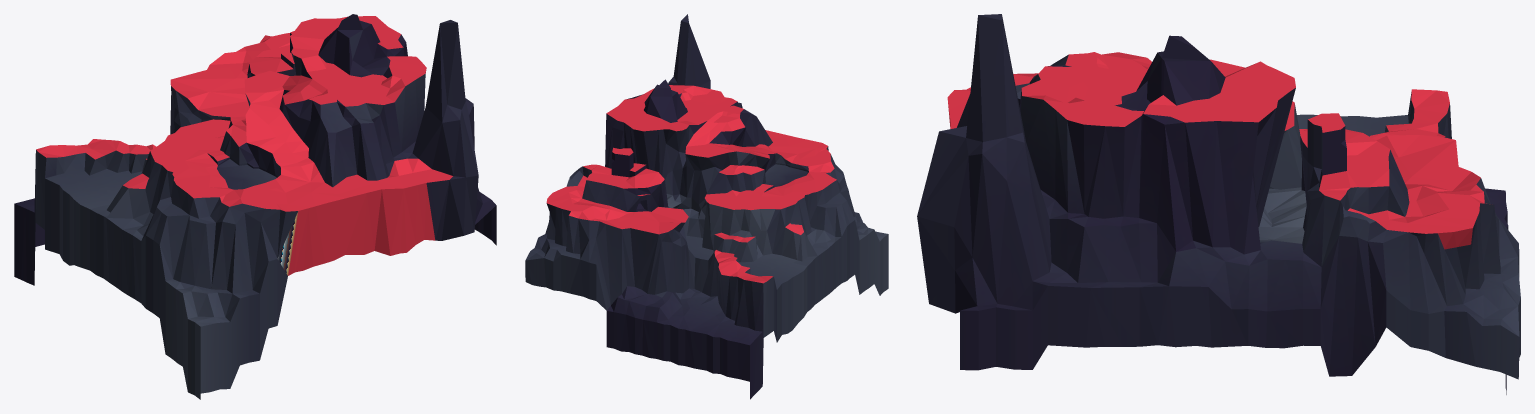
File: Terrain_Cliff 1.fbx
3 renders of one model, left to right at view 1: azimuth 30°, elevation 25°; view 2: azimuth 150°, elevation 25°; view 3: azimuth 270°, elevation 25°, orthographic. The views are drawn at different scales.
Parts seen in each view (by area): view 1: Mountains; view 2: Mountains; view 3: Mountains.
Boxes of the visible parts, x1,y1,x2,y2 form: Mountains: (14, 14, 496, 399); Mountains: (525, 14, 888, 399); Mountains: (917, 14, 1520, 394).
Size of the model in its own units: 9320 by 9467 by 10997.
